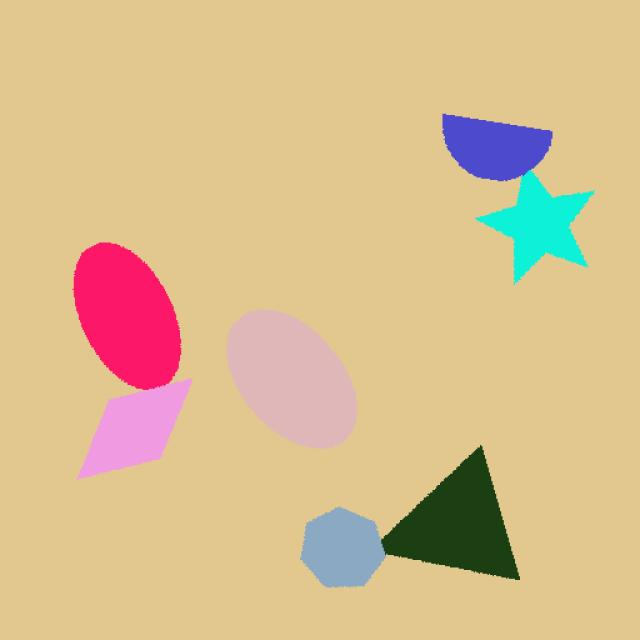Heptagon: (282, 500, 412, 597)
Kite: (51, 357, 200, 481)
Oval: (221, 299, 378, 458), (71, 235, 190, 396)
Semicircle: (424, 98, 566, 192)
Star: (475, 160, 618, 294)
Triangle: (378, 439, 528, 586)
